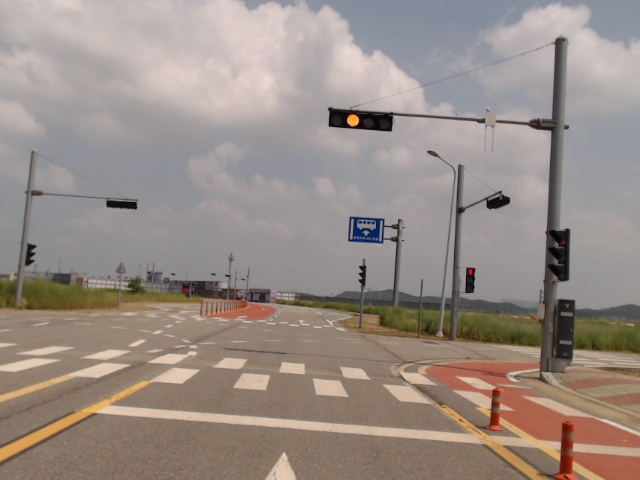orange_4: (330, 107, 393, 132)
